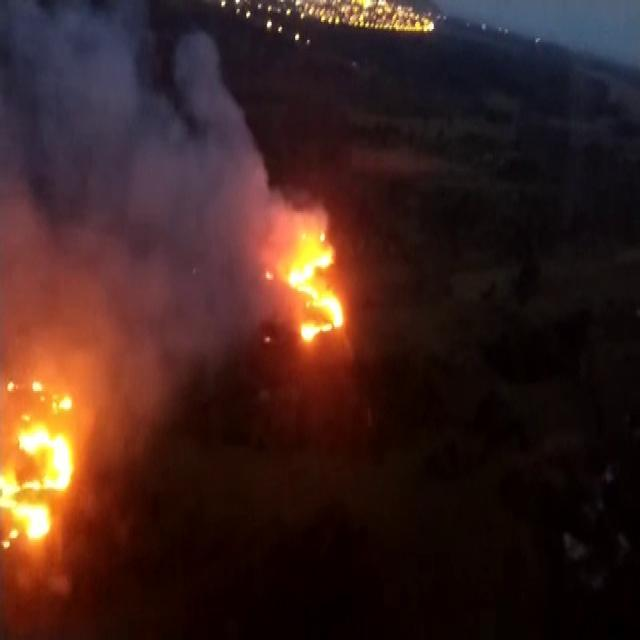Fire: (292, 222, 346, 342), (12, 430, 74, 532)
Smoke: (43, 104, 182, 360)
